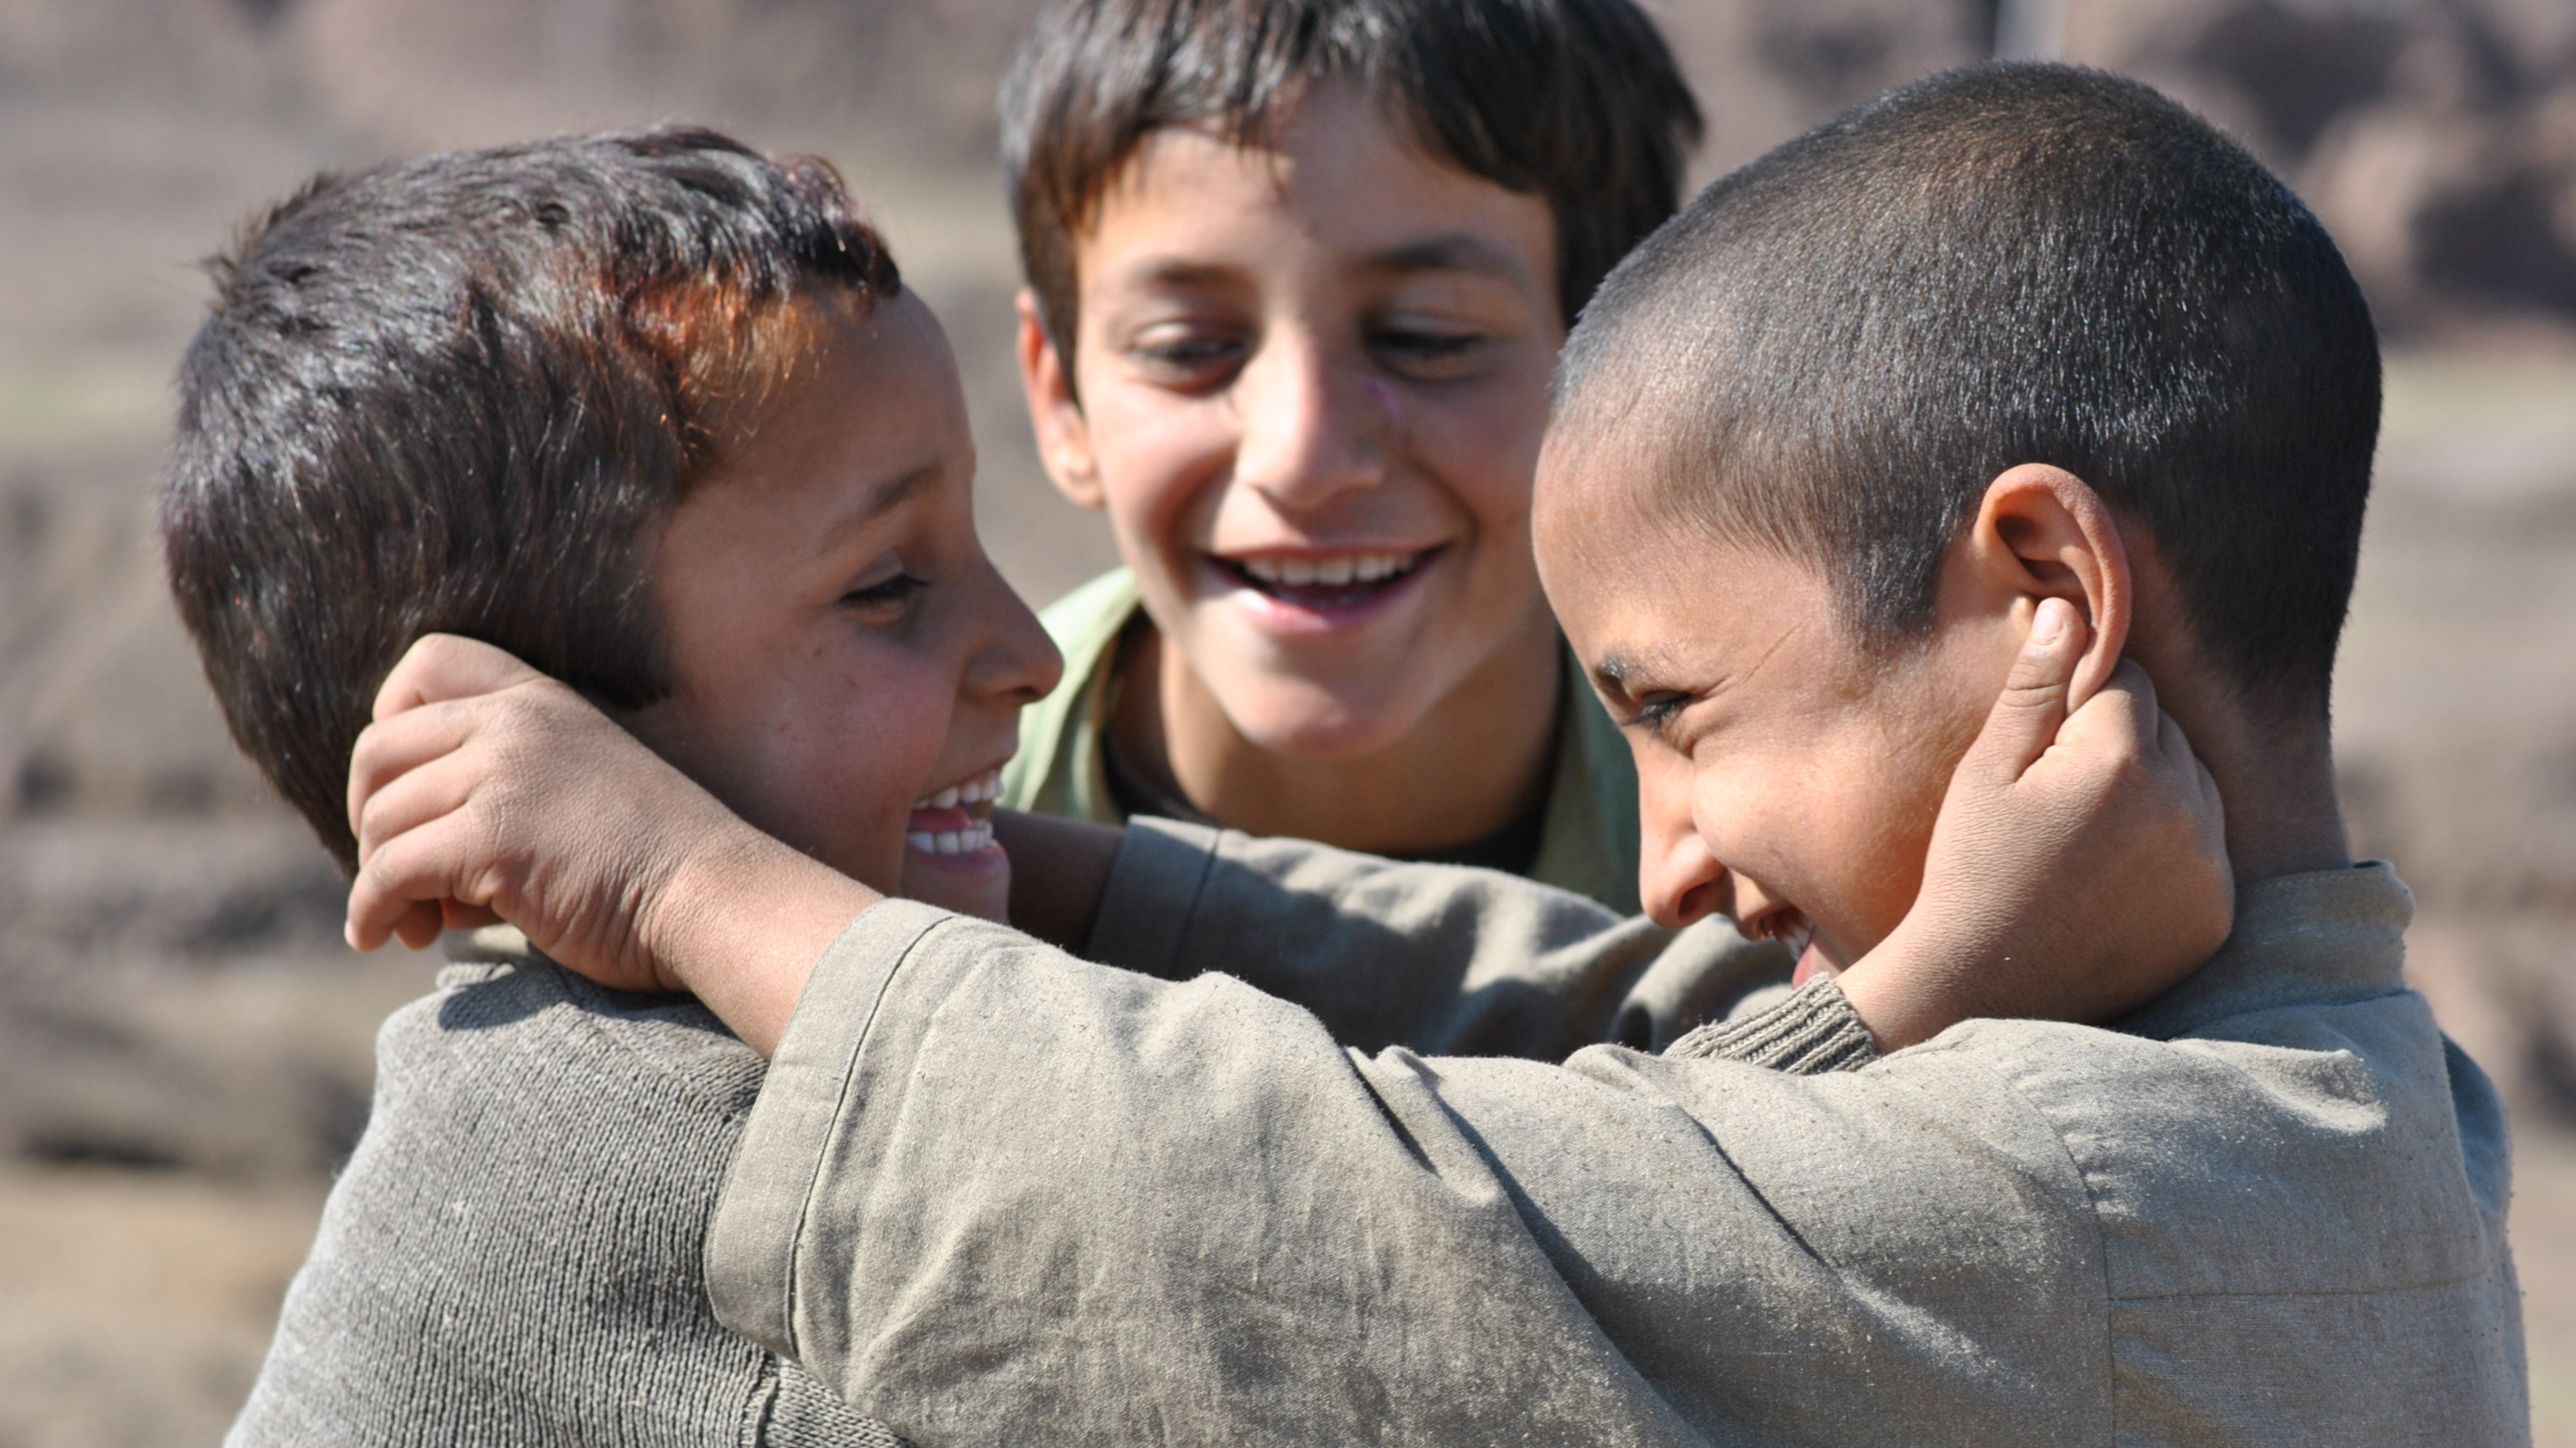human: (308, 62, 2515, 1448), (67, 112, 1241, 1448), (844, 1, 1802, 1018)
